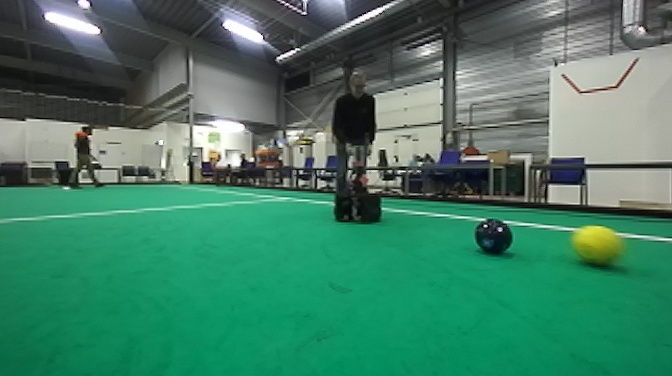ball: (565, 221, 623, 268), (474, 216, 516, 259)
human: (327, 71, 377, 198), (69, 125, 98, 192)
robot: (331, 136, 382, 225)
